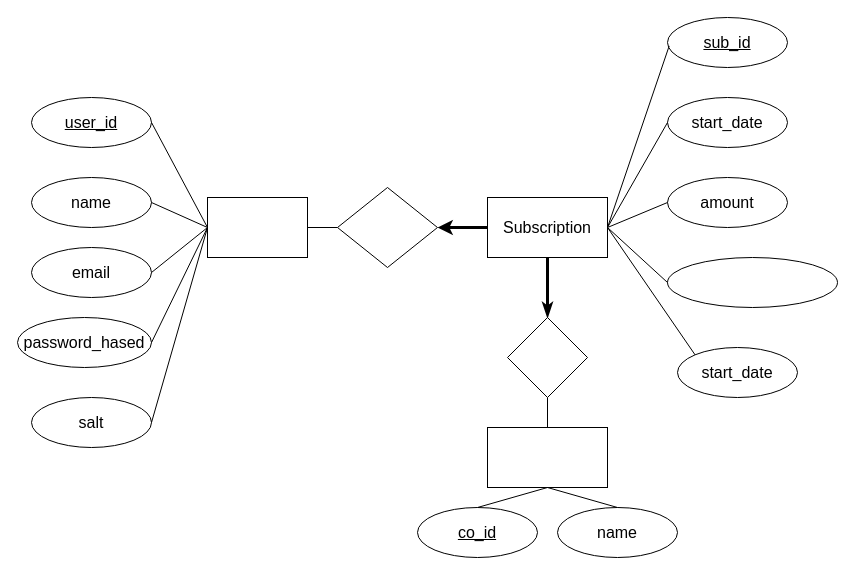
This 855x575 diagram has some shape labels left out. The shapes that lost their labels are listed below. From the top down, each one's box as (x1, y1, x2, y2) in pixels, then its label:
(206, 196, 308, 258): User
(336, 186, 438, 268): Subscribes
(666, 256, 838, 308): subscription_cycle
(506, 316, 588, 398): Has
(486, 426, 608, 488): Company
